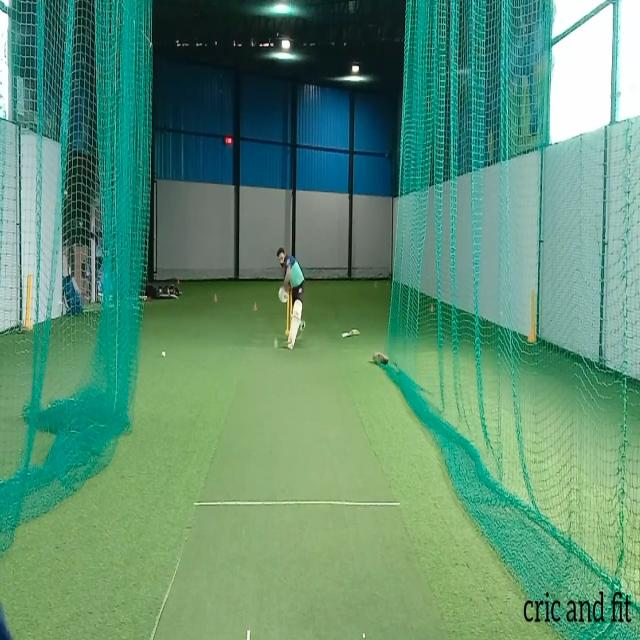batsman: (276, 246, 307, 351)
